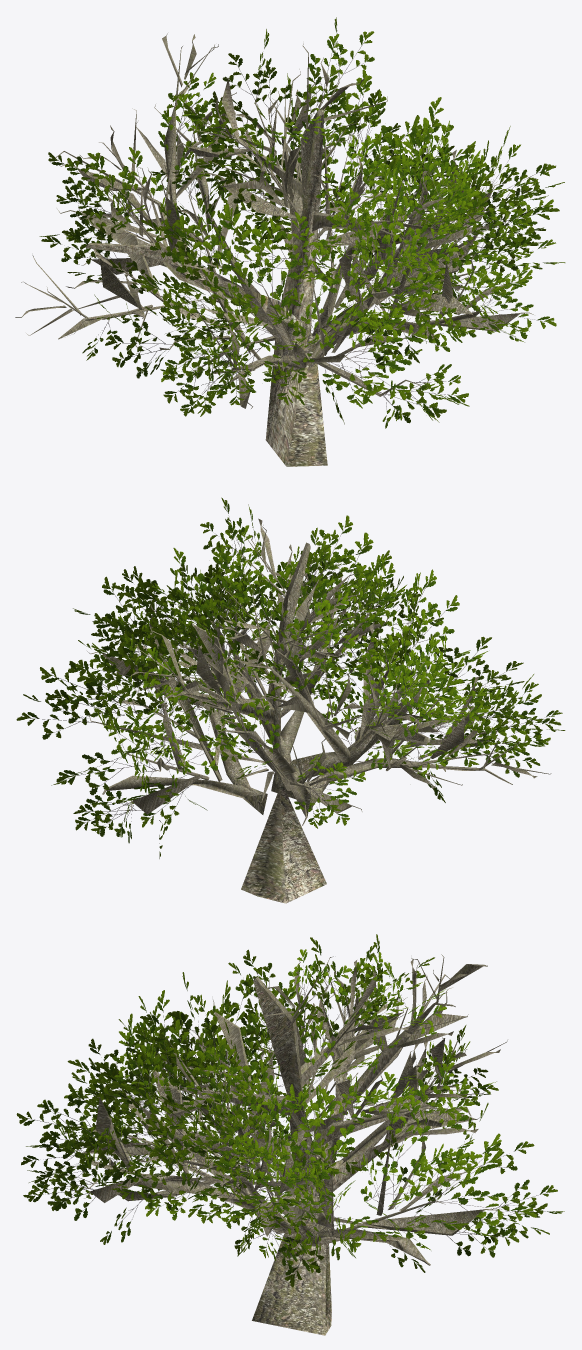
File: oak.glb
3 views of the same model, one above another, from view 1: azimuth 30°, elevation 25°; view 2: azimuth 150°, elevation 25°; view 3: azimuth 270°, elevation 25° (orthographic). The views are drawn at different scales.
Visible parts, largest first — view 1: m; view 2: m; view 3: m.
Boxes of the visible parts, x1,y1,x2,y2 form: m: [15, 17, 565, 466]; m: [16, 497, 565, 903]; m: [16, 934, 564, 1335].
Size of the model in its own units: 1.29 by 0.9544 by 1.23.
2 materials, 2 textured.
